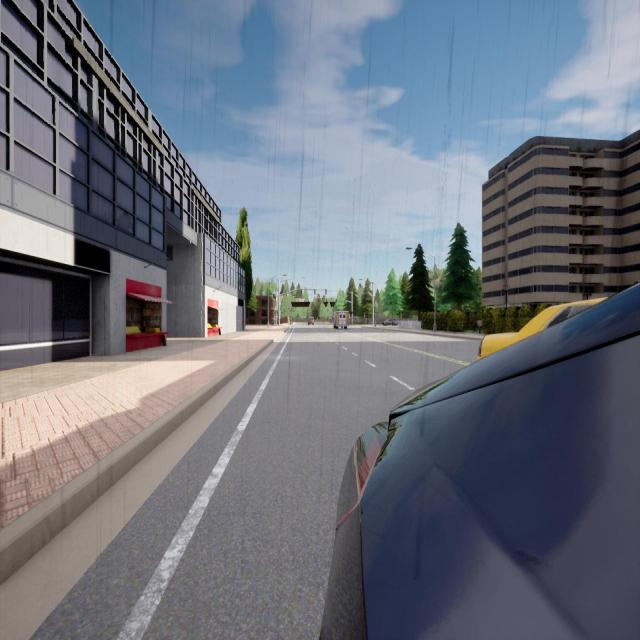Vehicle: (321, 284, 639, 638), (478, 298, 607, 359), (334, 310, 348, 328), (384, 318, 397, 326), (308, 317, 314, 325)
traffic_light: (314, 290, 316, 294), (301, 289, 302, 294), (351, 310, 352, 314), (336, 298, 337, 302), (319, 298, 319, 302), (327, 299, 327, 302), (326, 289, 326, 294)
